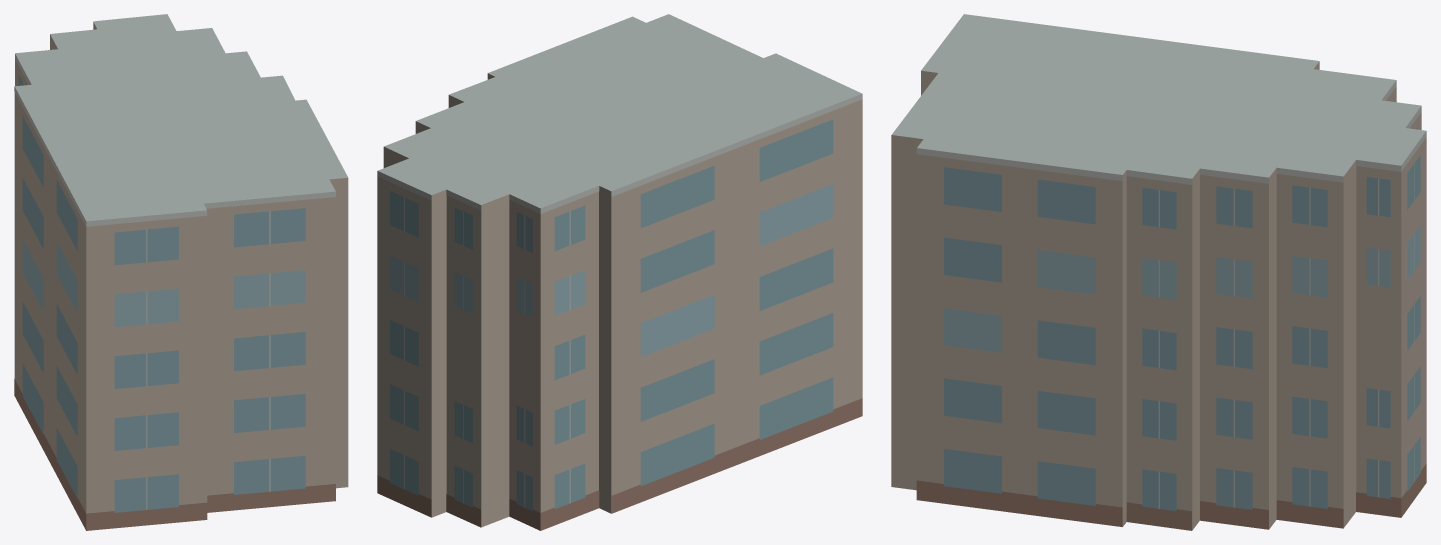
The model's file is survey-upis-32935248.glb.
3 renders of one model, left to right at view 1: azimuth 30°, elevation 25°; view 2: azimuth 150°, elevation 25°; view 3: azimuth 270°, elevation 25°, orthographic. The views are drawn at different scales.
Visible parts, largest first — view 1: survey-upis-32935248.tmp; view 2: survey-upis-32935248.tmp; view 3: survey-upis-32935248.tmp.
Boxes of the visible parts, x1,y1,x2,y2 form: survey-upis-32935248.tmp: (14, 14, 348, 530); survey-upis-32935248.tmp: (377, 14, 862, 530); survey-upis-32935248.tmp: (891, 14, 1426, 530).
Bounding box in the file's own units: 13.96 × 13.9 × 19.16.
